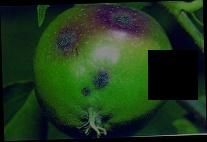rotten apple: (31, 3, 178, 137)
